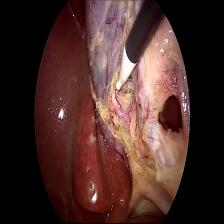Hook: (112, 44, 137, 102)
